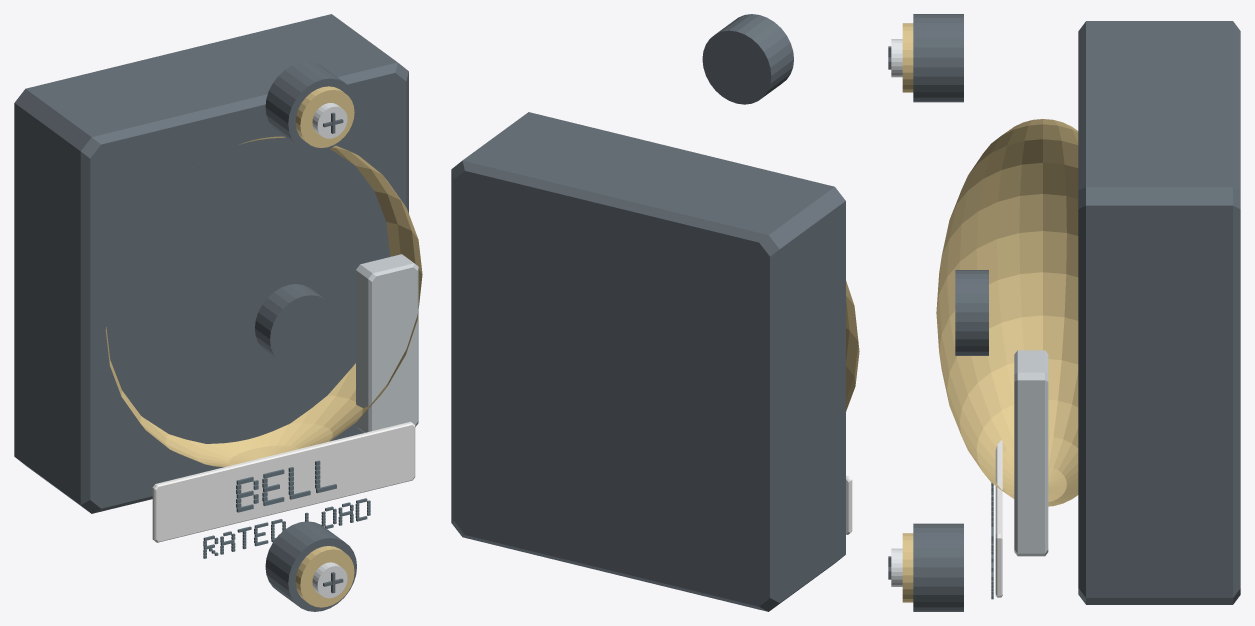
File: bell.glb
The picture shows the model from 3 angles, left to right: view 1: azimuth 30°, elevation 25°; view 2: azimuth 150°, elevation 25°; view 3: azimuth 270°, elevation 25°; orthographic projection. The views are drawn at different scales.
Parts seen in each view (by area): view 1: bell-detailed; view 2: bell-detailed; view 3: bell-detailed.
Part boxes in pixels (<box>): bell-detailed: <box>14,14,422,611</box>; bell-detailed: <box>451,14,859,611</box>; bell-detailed: <box>888,14,1240,611</box>.
Size of the model in its own units: 1.5 by 2.31 by 1.25.
